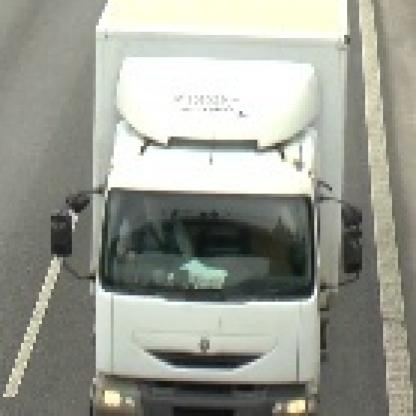truck: (49, 1, 360, 414)
